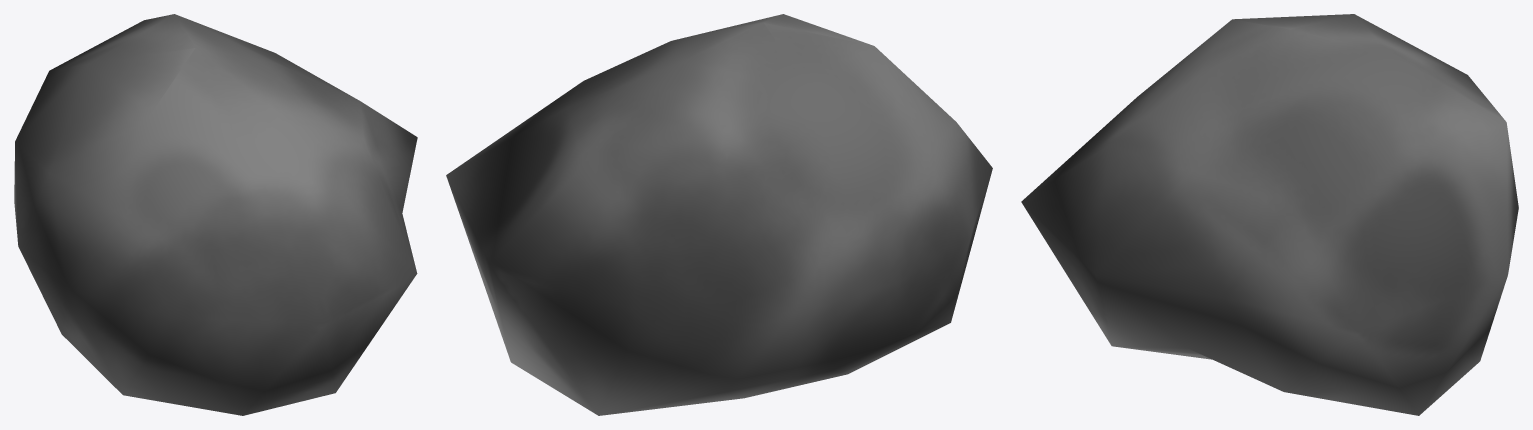
File: rock.obj
3 views of the same model, side by side, from view 1: azimuth 30°, elevation 25°; view 2: azimuth 150°, elevation 25°; view 3: azimuth 270°, elevation 25° (orthographic). The views are drawn at different scales.
Parts seen in each view (by area): view 1: Icosphere; view 2: Icosphere; view 3: Icosphere.
Boxes of the visible parts, x1,y1,x2,y2 form: Icosphere: (14,14,417,415); Icosphere: (446,14,992,415); Icosphere: (1021,14,1518,415).
Size of the model in its own units: 2.84 by 2.11 by 2.95.
1 material, 1 textured.
